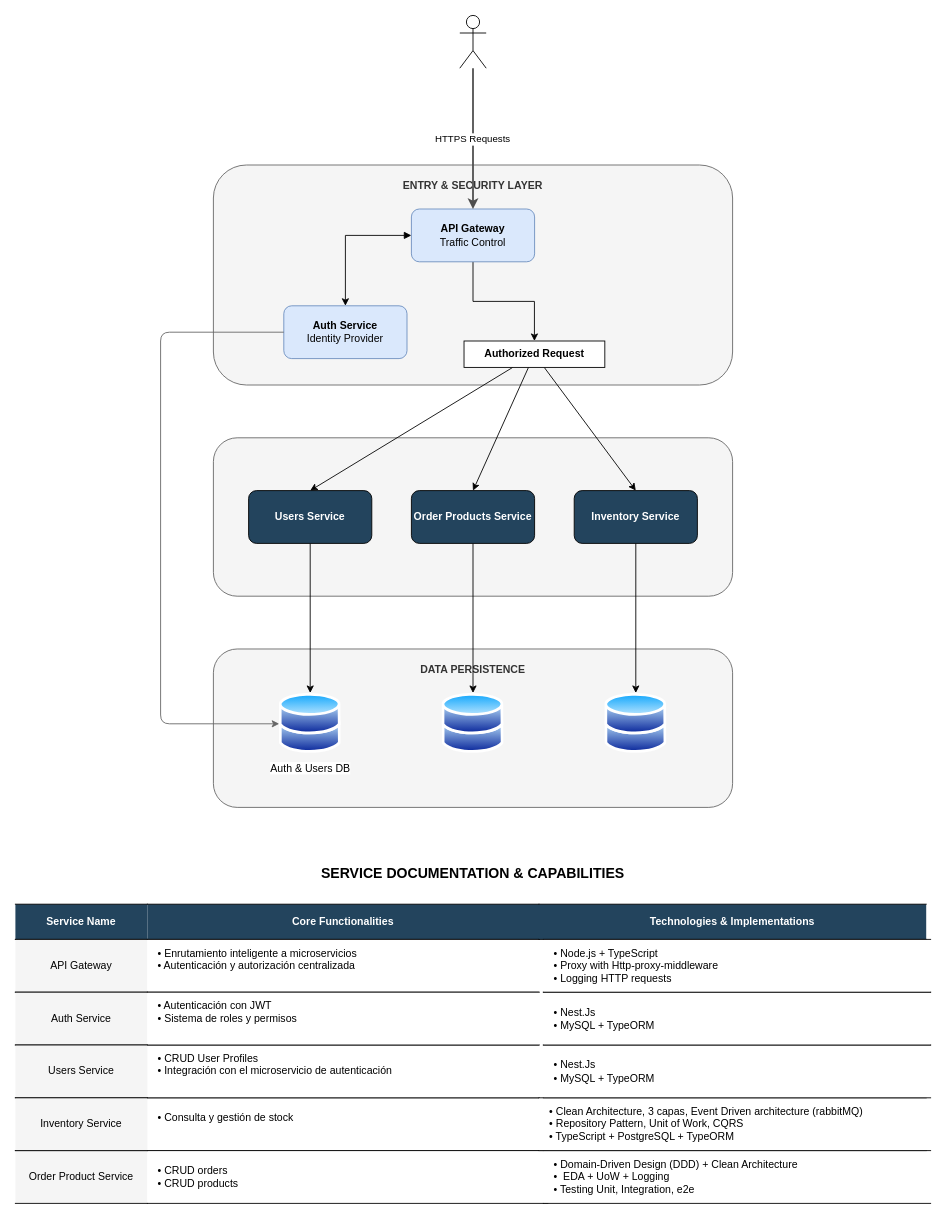
The diagram is 946 pixels wide and 1219 high, and some of its shapes have lost their labels. The box of each missing label's shape, as (x1, y1, x2, y2) in pixels:
Client Application: (459, 15, 486, 68)
Inventory DB: (604, 693, 666, 753)
MICROSERVICES LAYER: (213, 437, 733, 596)
Orders Products DB: (442, 693, 504, 753)
